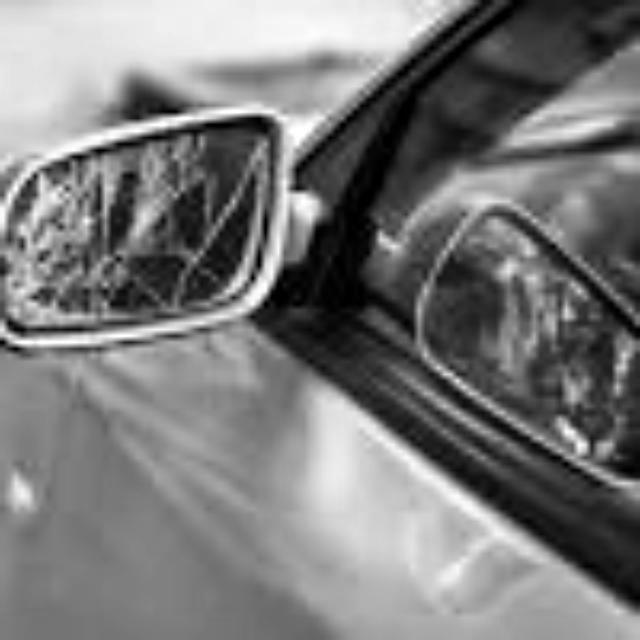Sidemirror-Damage: (0, 109, 294, 345)
